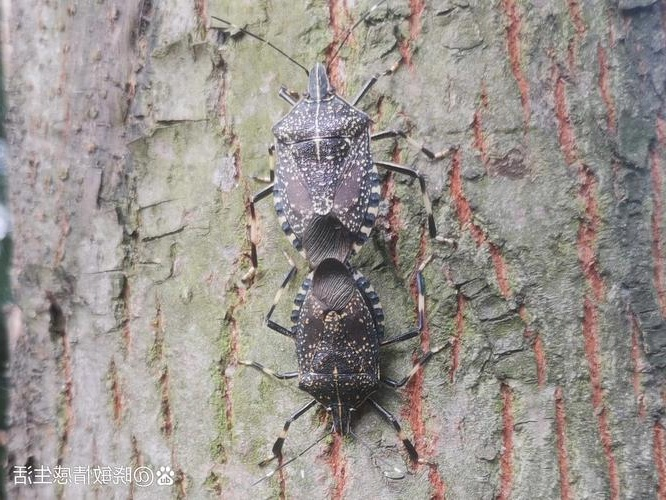Stink_Bug: (257, 51, 412, 424)
